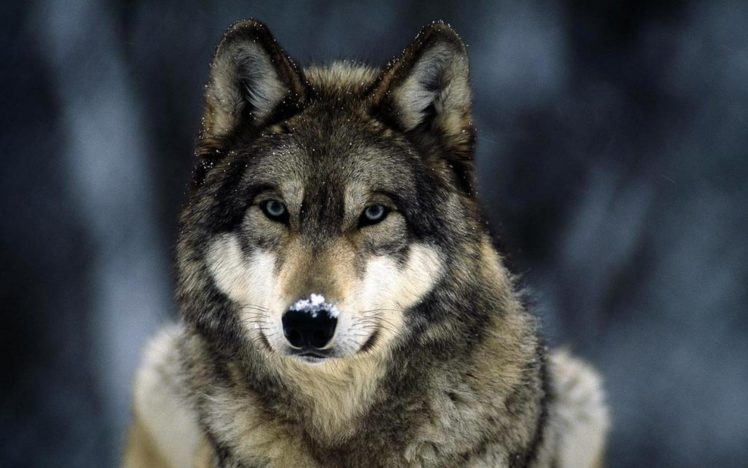Lobo: (165, 13, 526, 435)
